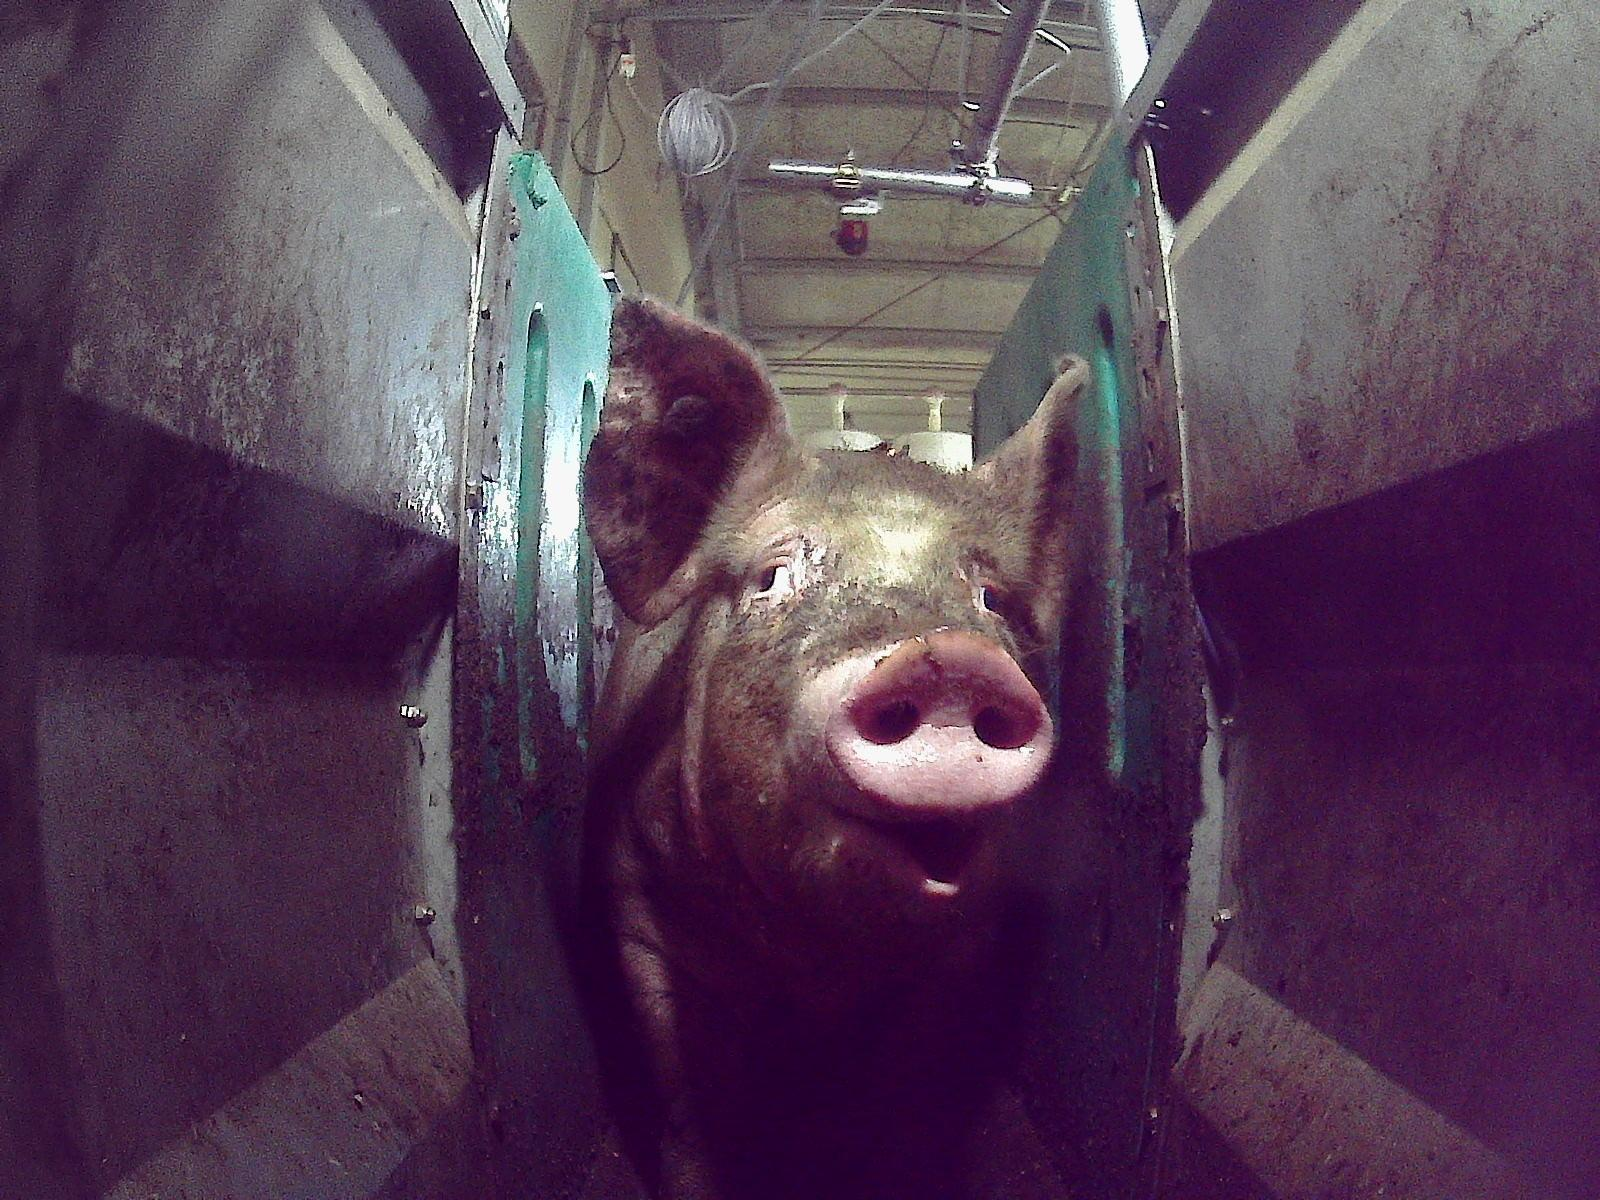Face: (673, 449, 1059, 939)
